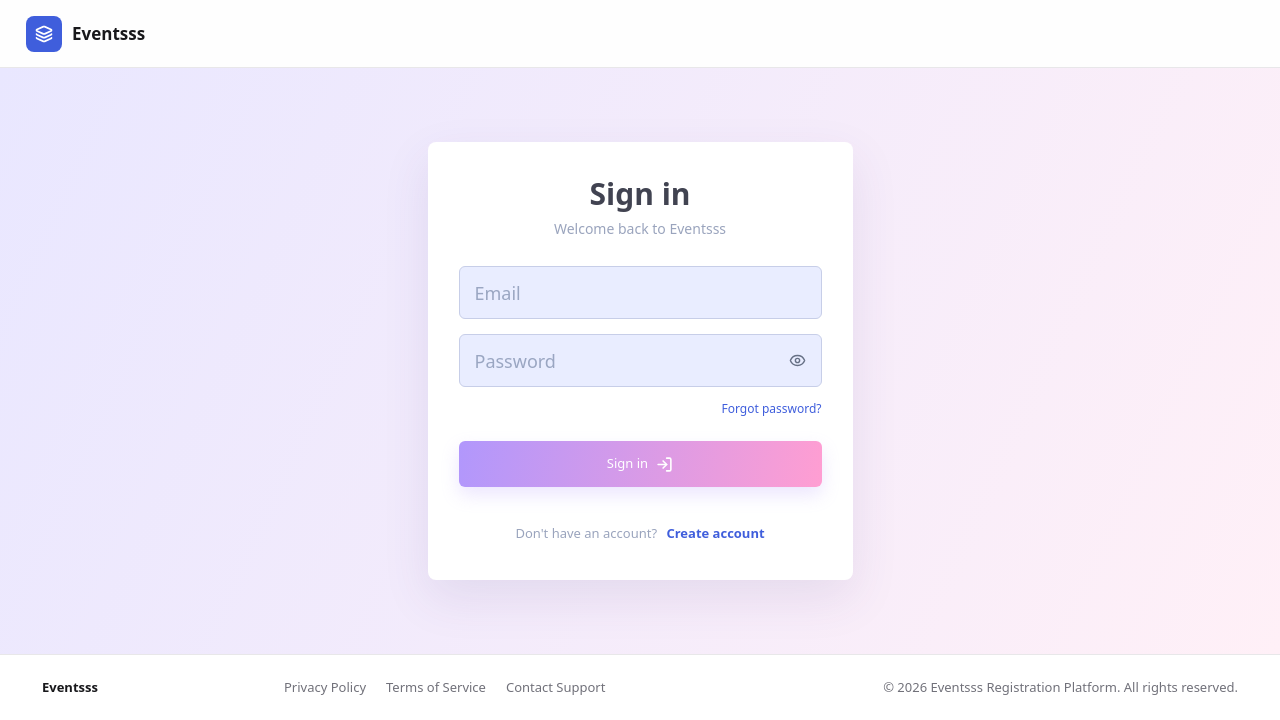
Account Sign-up, Recovery and Role Selection › AUTH-006 asks a multi-role account to choose a role and opens the matching console
Type "multi@example.test" into the field with test id "email" at coordinates (641, 293), box [459,266,822,319]
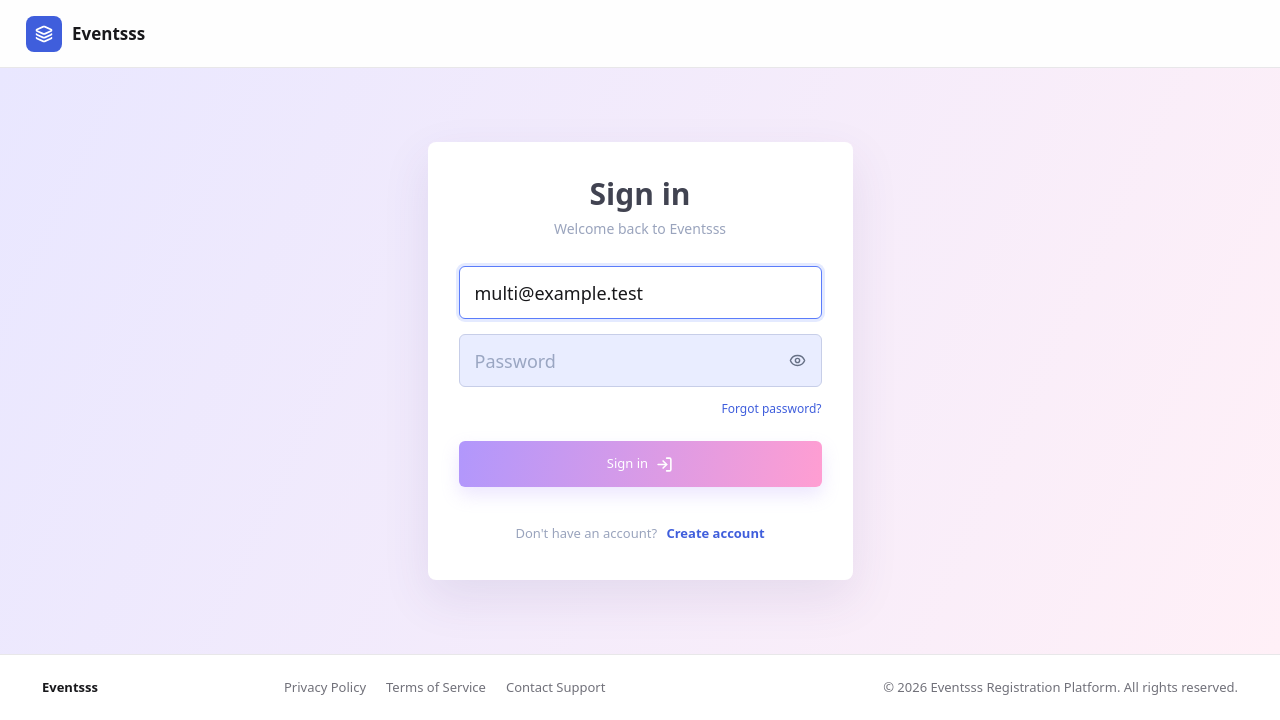
Type "test-password-123" into the password field with test id "password" at coordinates (641, 361), box [459,334,822,387]
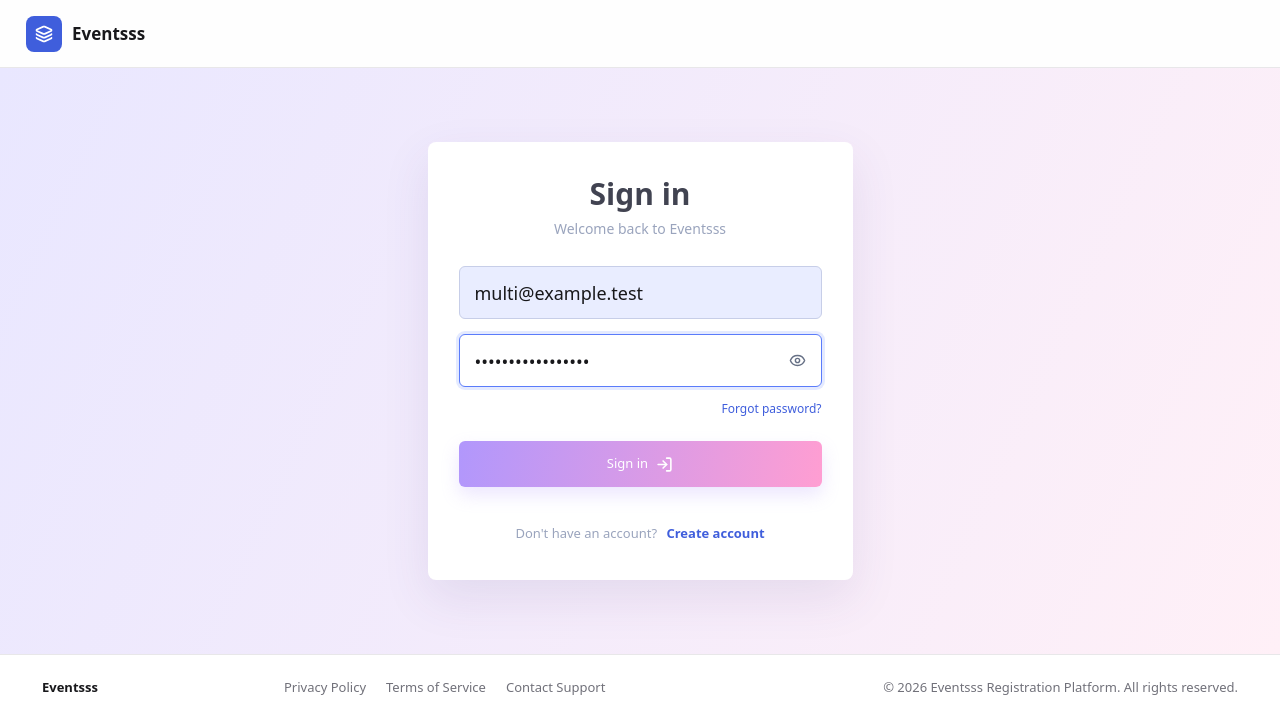
Click the button with test id "login-submit" at coordinates (641, 464), box [459,441,822,487]
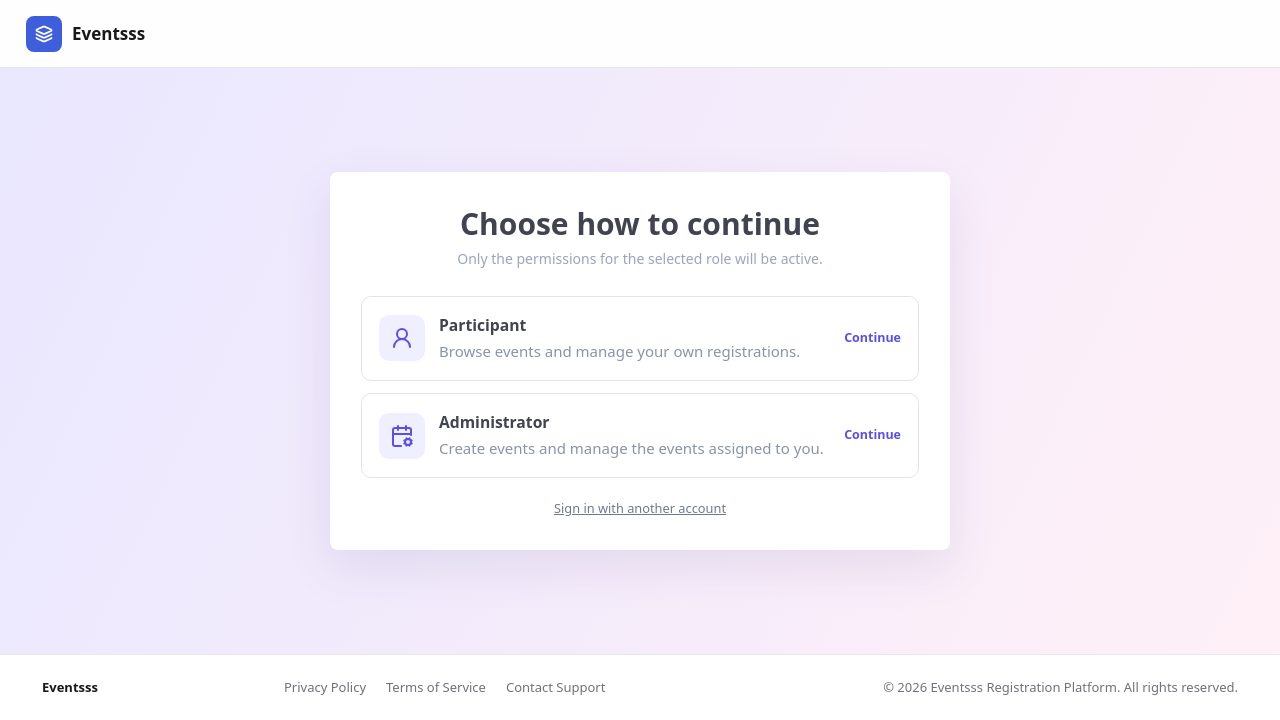
Now the number of buttons with class "role-option" is 2
Click the button "Administrator" at coordinates (640, 436), box [361,393,919,478]
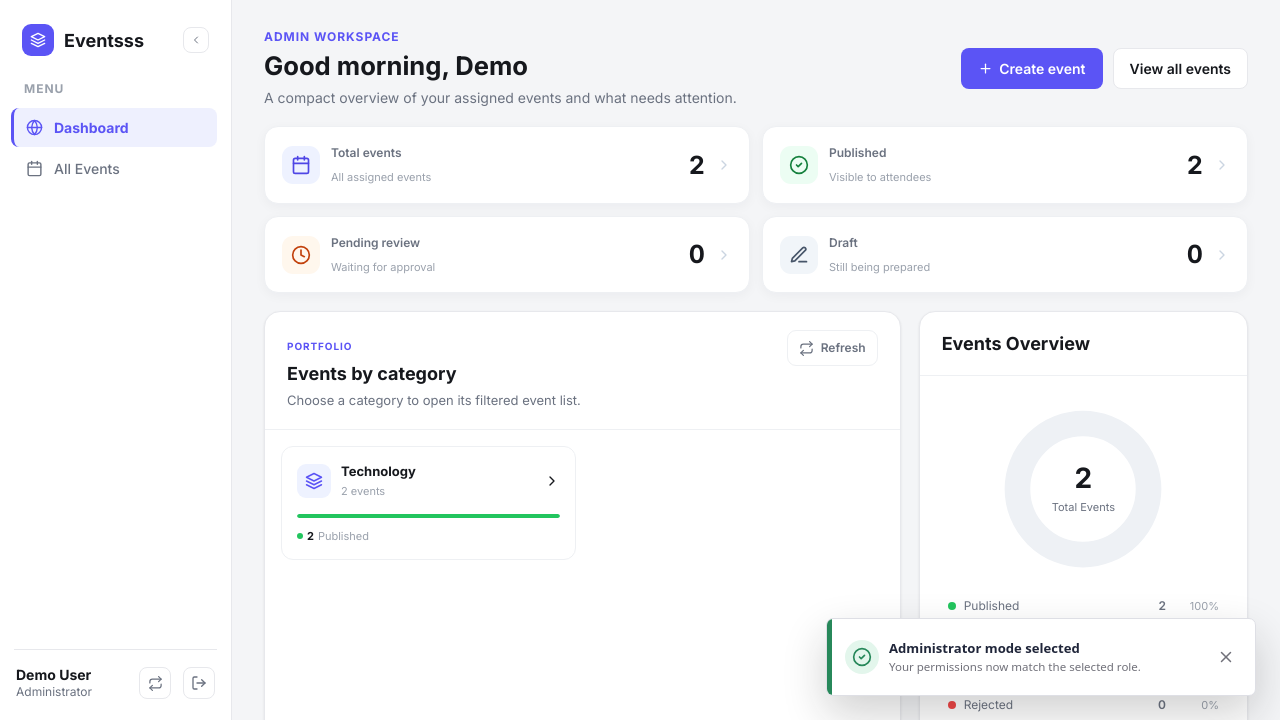
Now the message with class "app-toast" shows "Administrator mode selected", box [826,618,1256,696]
